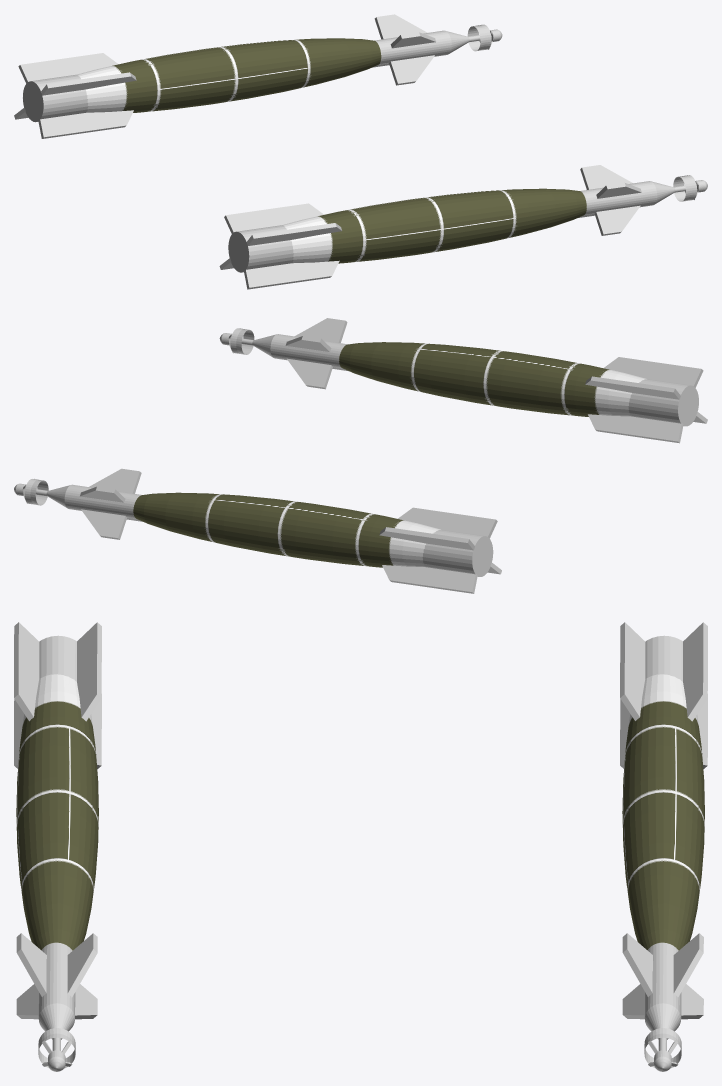
The model's file is a10cgbu10481.glb.
The picture shows the model from 3 angles, top to bottom: view 1: azimuth 30°, elevation 25°; view 2: azimuth 150°, elevation 25°; view 3: azimuth 270°, elevation 25°; orthographic projection. The views are drawn at different scales.
Parts seen in each view (by area): view 1: 球.006, 球.004; view 2: 球.004, 球.006; view 3: 球.006, 球.004.
Boxes of the visible parts, x1,y1,x2,y2 form: 球.006: (14, 14, 502, 138); 球.004: (219, 165, 707, 289); 球.004: (219, 318, 707, 443); 球.006: (14, 468, 501, 593); 球.006: (620, 622, 707, 1071); 球.004: (14, 622, 101, 1071).
Bounding box in the file's own units: 4.25 × 0.7652 × 3.66.
Materials: 1 (1 with a texture image).
